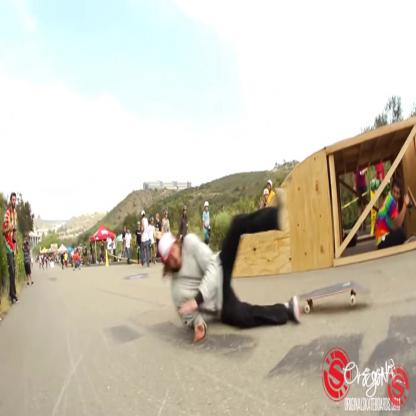Fall_Down: (156, 187, 302, 346)
